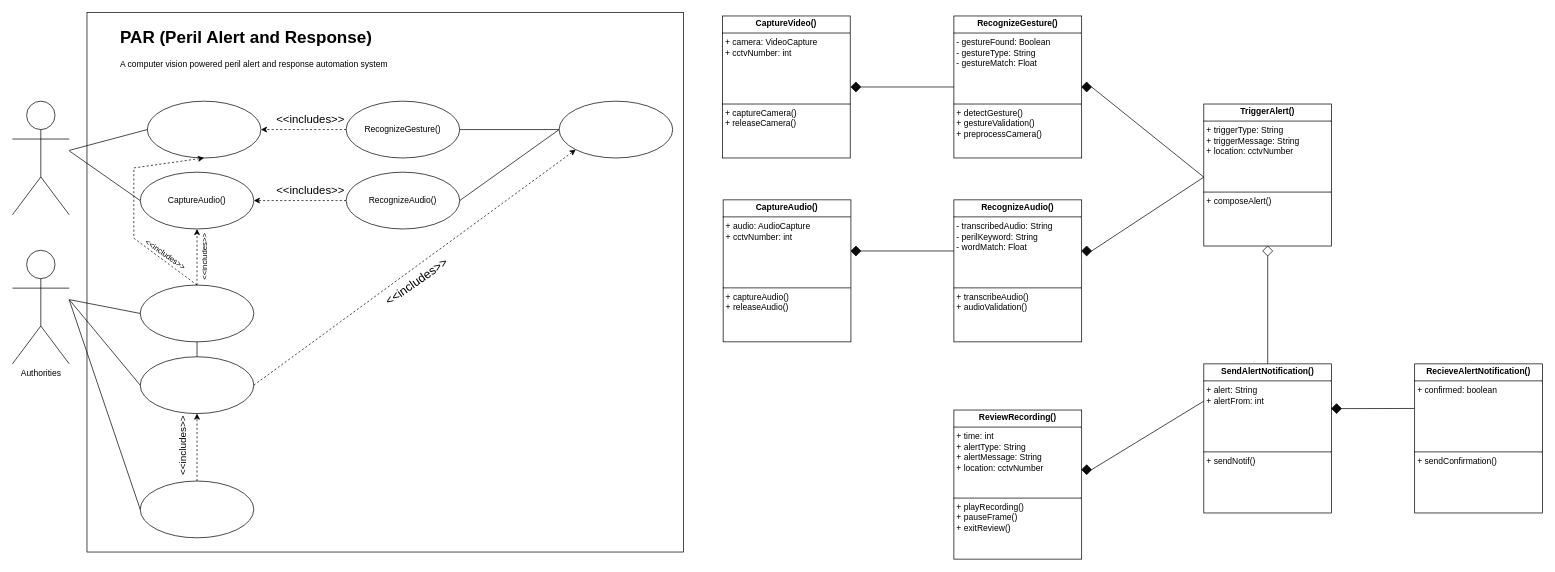
Image size: 1555x572. Some labels were removed from this diagram. The shapes that lost their labels are listed below. From the top down, each one's centre as x and y in pixels, then its label:
the point at 204,129: CaptureVideo()
the point at 615,129: TriggerAlert()
the point at 40,157: Citizen
the point at 197,313: ReviewRecording()
the point at 197,385: SendAlertNotification()
the point at 197,509: RecieveAlertNotification()
